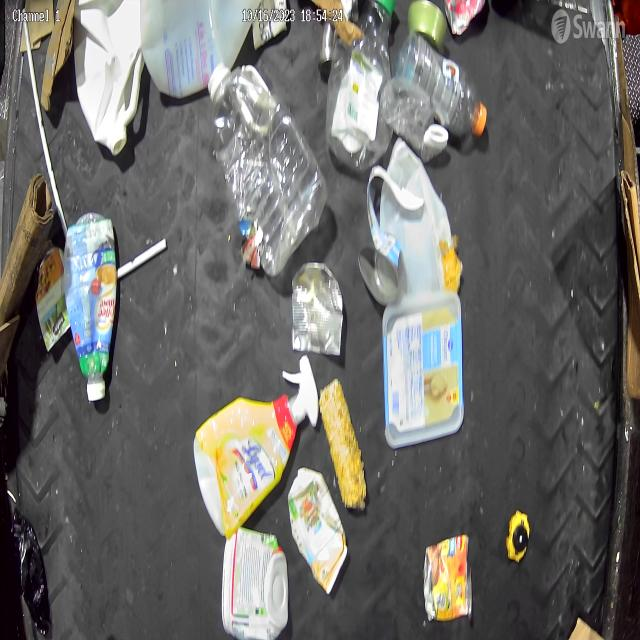can: (291, 262, 344, 356), (423, 532, 473, 624), (36, 247, 70, 353), (357, 228, 401, 309), (443, 0, 486, 35)
milk_jug: (378, 137, 464, 293), (141, 0, 261, 99), (73, 0, 141, 156)
plastic_bottle: (207, 62, 328, 277), (326, 0, 394, 174), (397, 30, 488, 138), (380, 77, 449, 163)
